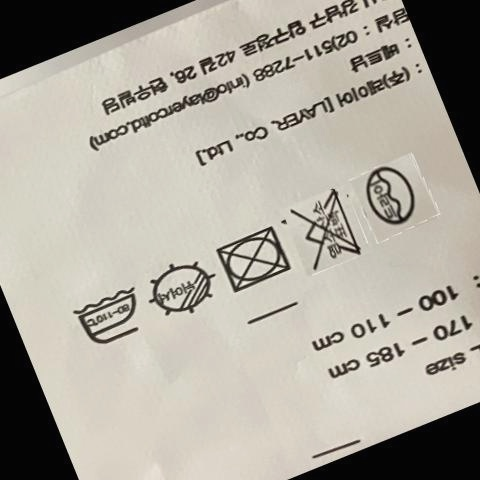DN_bleach: (297, 187, 357, 276)
DN_tumble_dry: (219, 223, 291, 297)
dry_clean: (364, 160, 425, 234)
dry_flat_in_shade: (151, 257, 214, 323)
tumble_dry_low: (73, 279, 147, 352)
